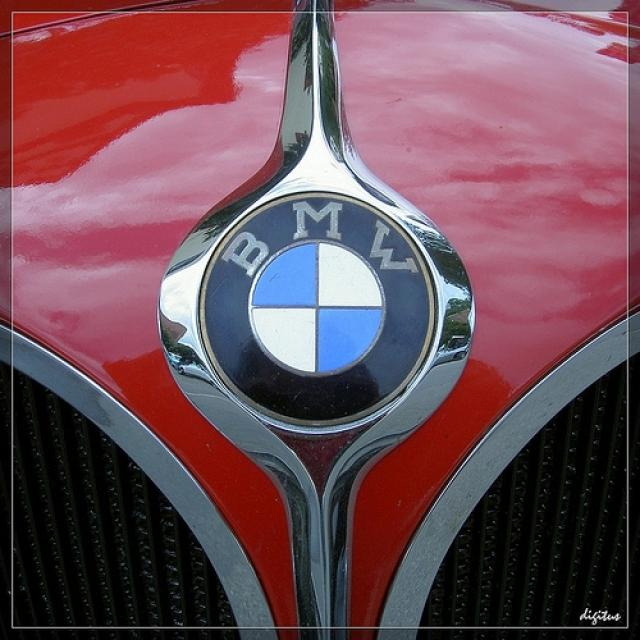bmw: (190, 185, 448, 440)
